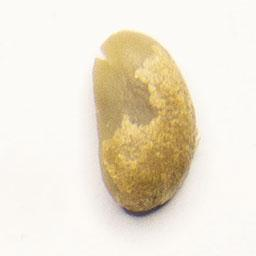longberry: (88, 27, 201, 217)
